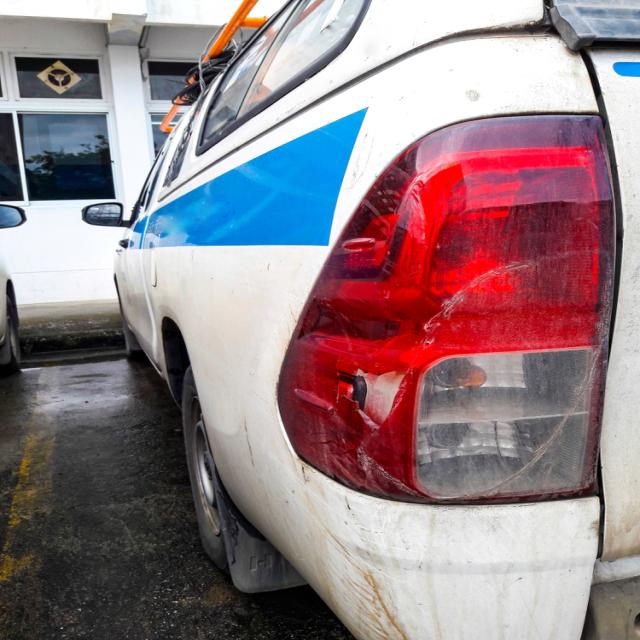lamp broken: (277, 113, 624, 505)
